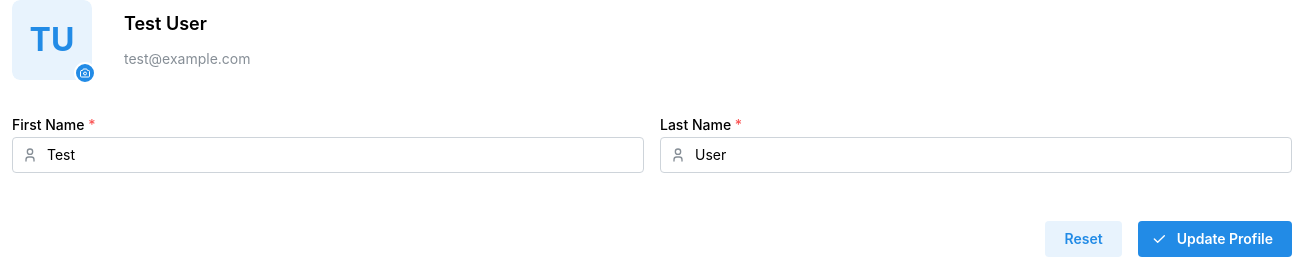
Scenario: ProfileForm › should reset form when reset button clicked
# Change value
Replace the text in the field labelled "First Name *" with "Changed": [328, 155] box [12, 137, 644, 173]
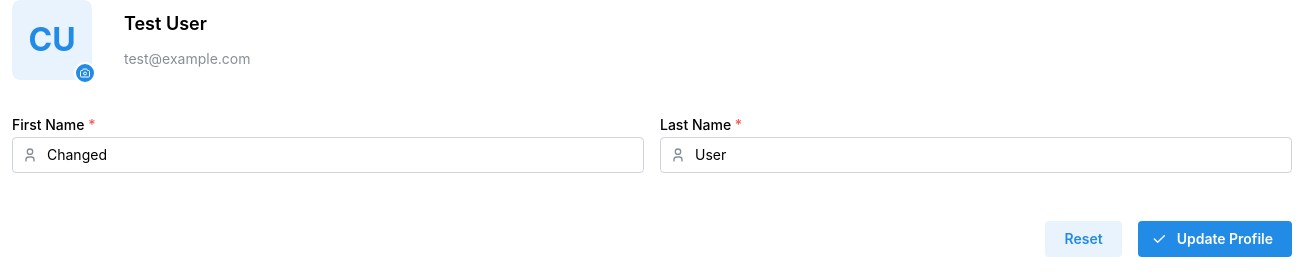
Click the button "Reset": [1084, 239] box [1046, 221, 1122, 257]
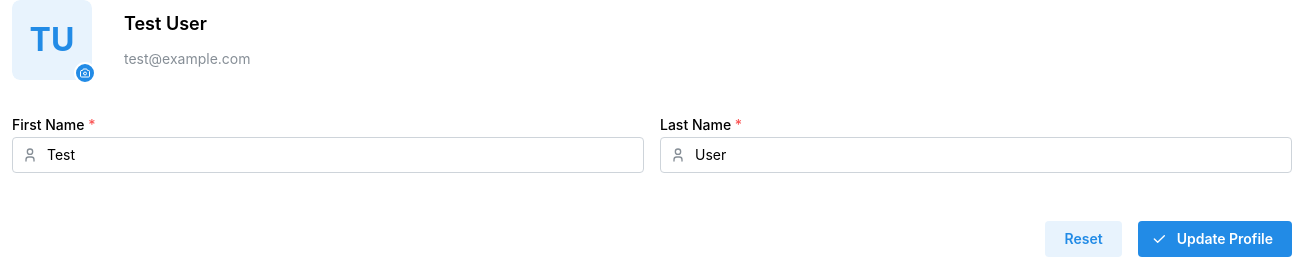
expect the field showing "Test" is shown: met, box [12, 137, 644, 173]
